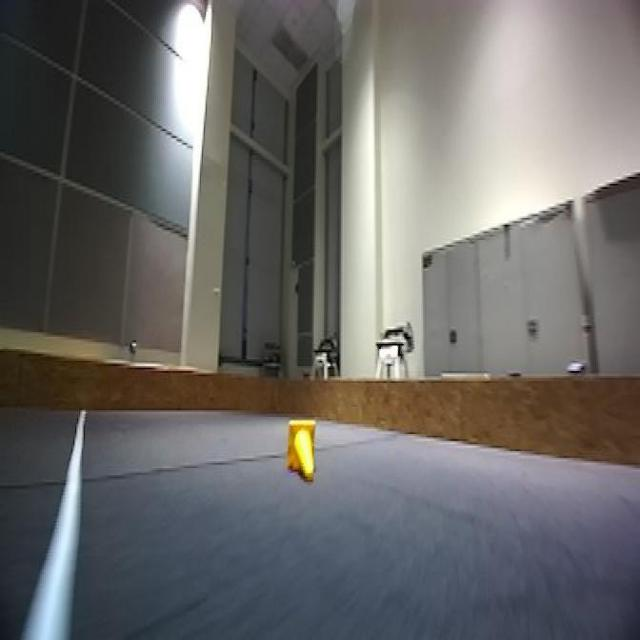frc_cone: (285, 419, 318, 485)
